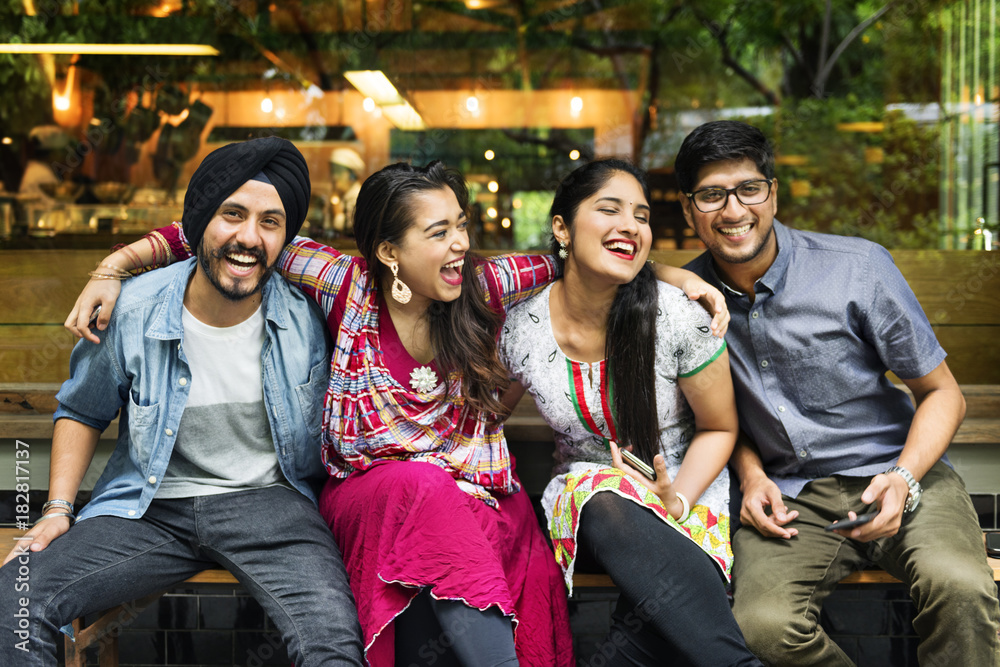men: (158, 133, 317, 305), (669, 121, 808, 277)
women: (337, 152, 480, 307), (543, 159, 658, 310)
